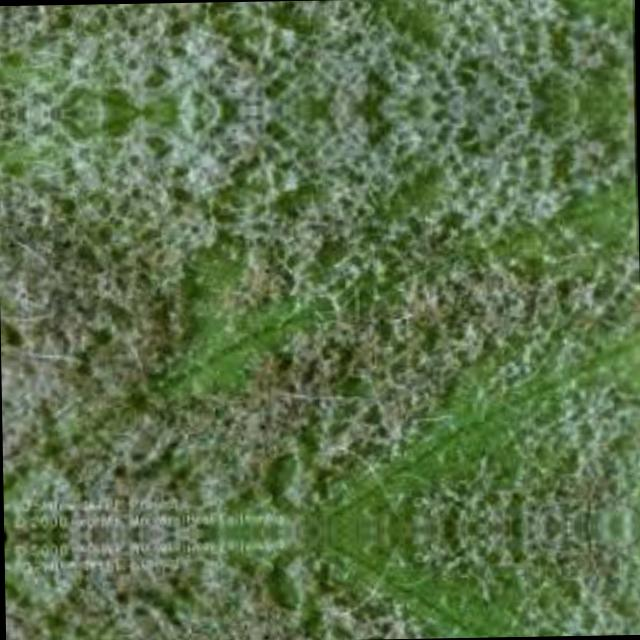Downy_mildew: (0, 106, 636, 527), (0, 0, 629, 109), (6, 532, 638, 640)
